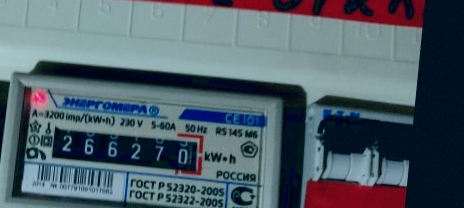0: (175, 145, 188, 166)
2: (58, 132, 74, 154), (128, 140, 142, 162)
6: (81, 136, 95, 157), (105, 138, 119, 158)
7: (151, 143, 165, 163)
screen: (37, 113, 214, 185)
